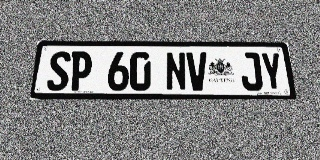0: (129, 52, 151, 91)
6: (107, 52, 130, 91)
J: (239, 52, 263, 91)
N: (165, 52, 187, 91)
P: (68, 51, 93, 91)
S: (46, 51, 71, 91)
V: (186, 52, 208, 91)
Y: (260, 52, 285, 91)
